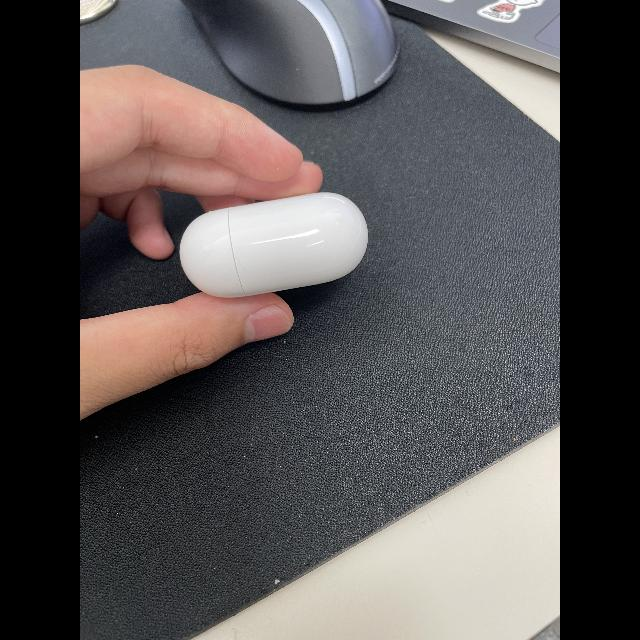airpod3: (170, 177, 372, 299)
